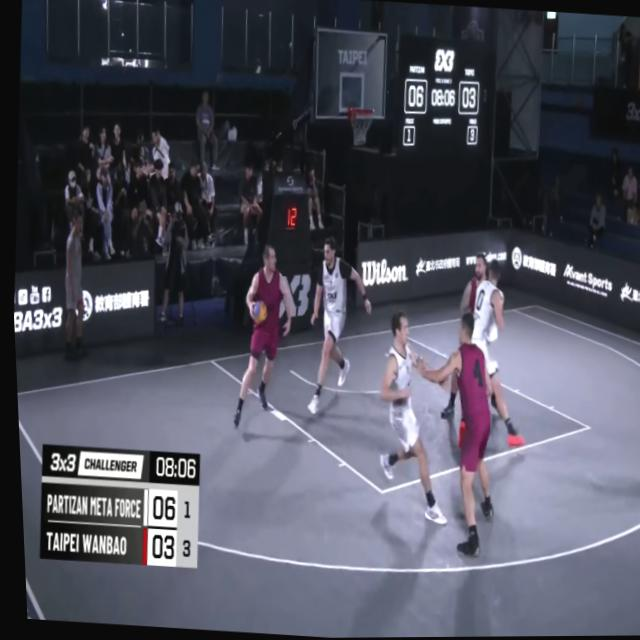ball: (243, 295, 267, 328)
hoop: (343, 99, 374, 150)
player: (411, 311, 503, 563), (363, 312, 456, 535), (443, 254, 533, 450), (296, 236, 379, 418), (221, 236, 297, 433), (430, 243, 511, 425)
